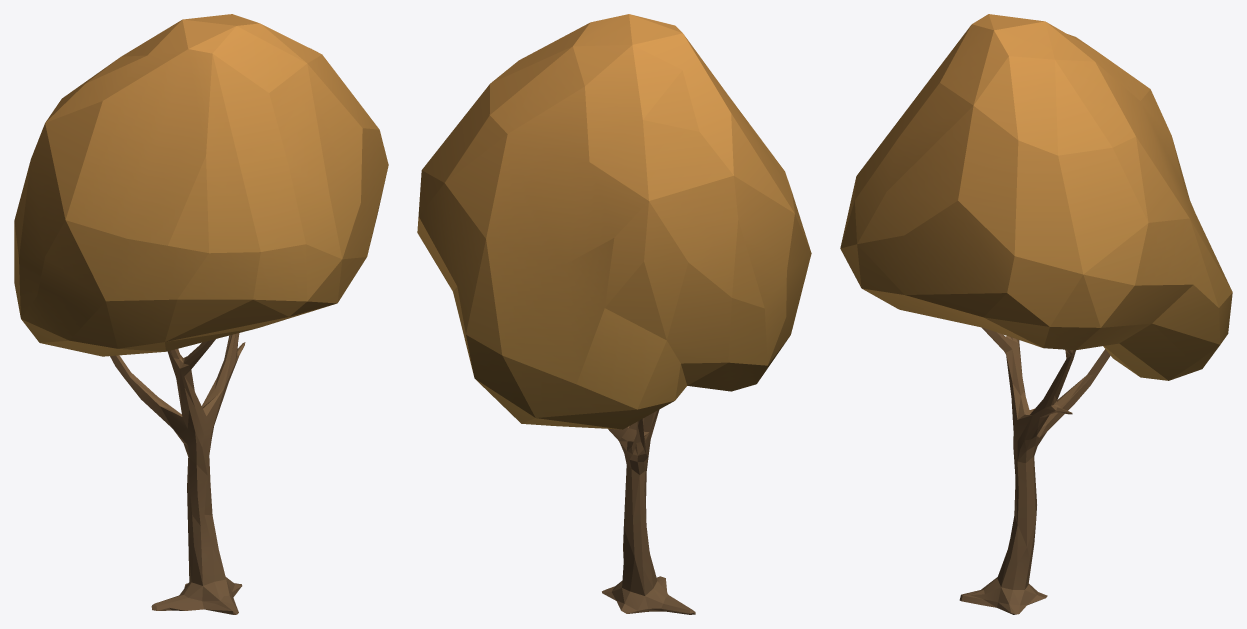
The model's file is Autumn_Tree_13.glb.
3 renders of one model, left to right at view 1: azimuth 30°, elevation 25°; view 2: azimuth 150°, elevation 25°; view 3: azimuth 270°, elevation 25°, orthographic.
Parts seen in each view (by area): view 1: Autumn_Tree_13_LOD0; view 2: Autumn_Tree_13_LOD0; view 3: Autumn_Tree_13_LOD0.
Boxes of the visible parts, x1,y1,x2,y2 form: Autumn_Tree_13_LOD0: [14, 14, 388, 614]; Autumn_Tree_13_LOD0: [417, 14, 811, 614]; Autumn_Tree_13_LOD0: [840, 14, 1232, 614].
Size of what is drawn, in the model's own units: 4.52 by 7.22 by 4.42.
Materials: 1 (1 with a texture image).
